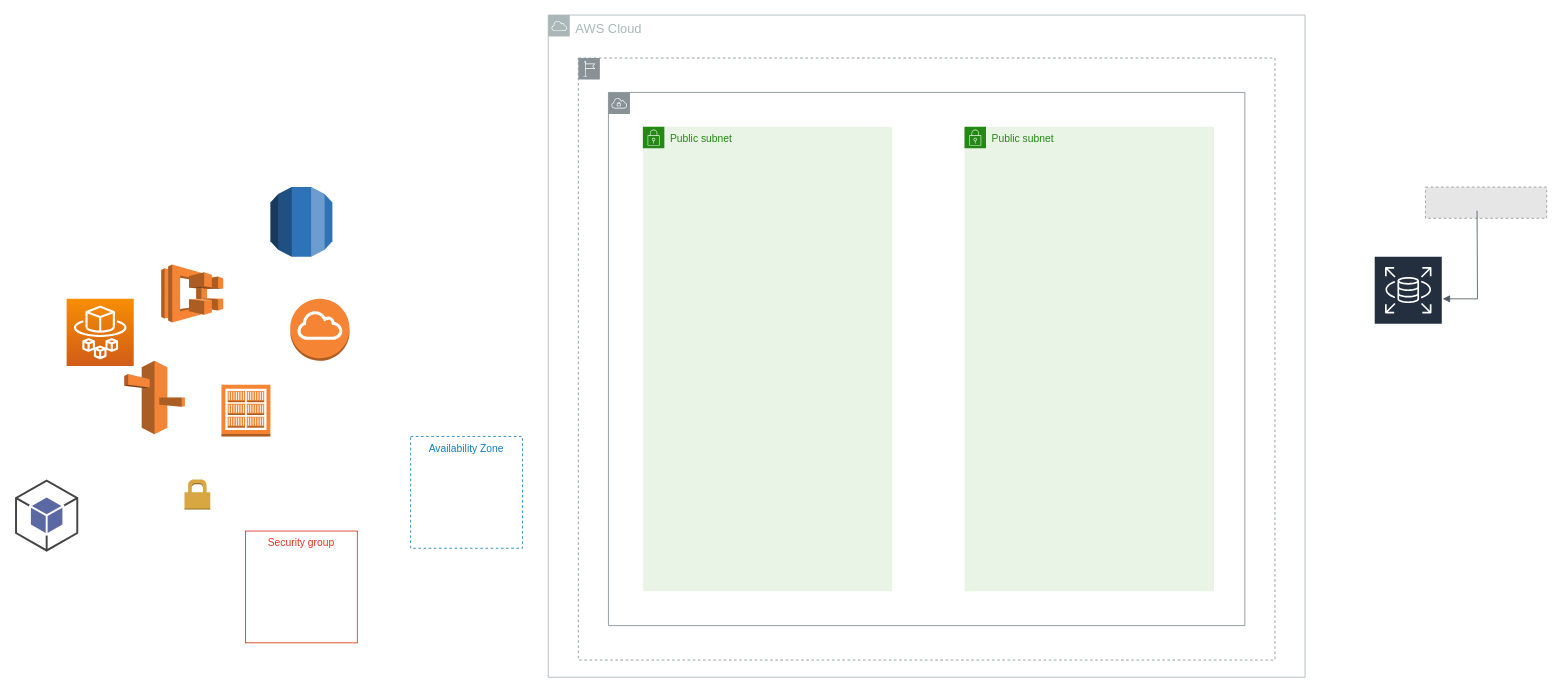
The diagram is 1562 pixels wide and 692 high, and some of its shapes have lost their labels. Grey dashed boxes stand in for pictures. Here are the shapes that lost their labels. From the top down, the box of each, then its label:
(1373, 255, 1443, 342): Amazon RDS
(577, 57, 1275, 660): Region（ap-northeast1 東京）
(608, 92, 1245, 626): VPC
